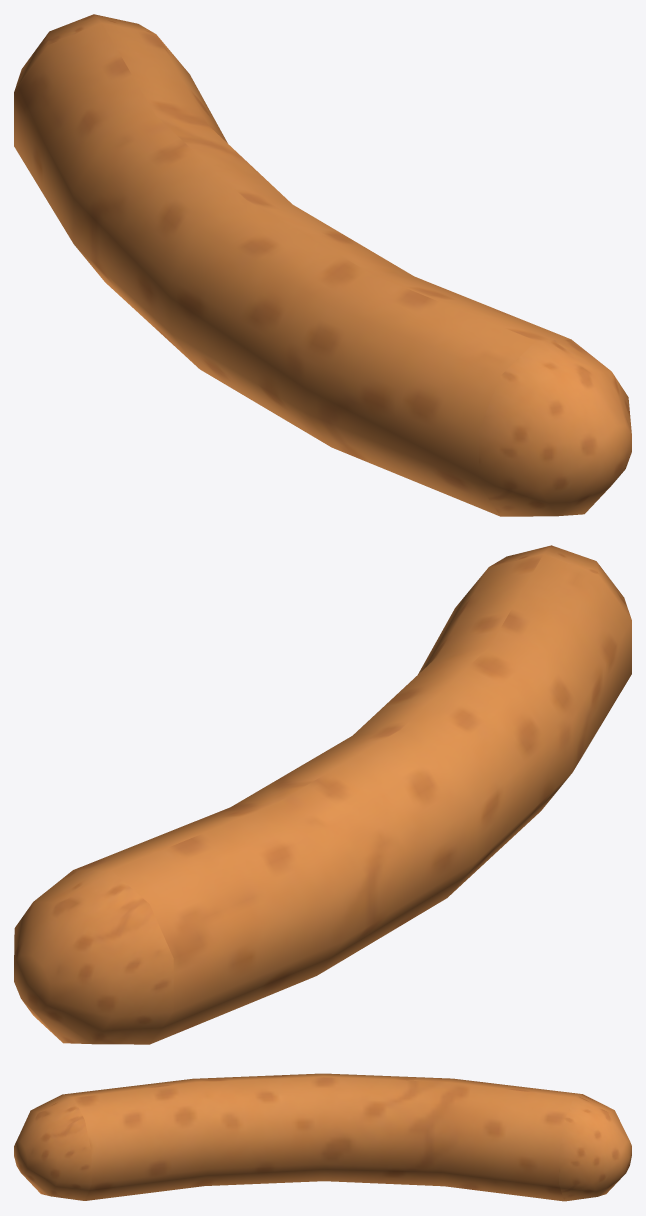
File: DoubleCooked_CervelasRaw.fbx
The picture shows the model from 3 angles, top to bottom: view 1: azimuth 30°, elevation 25°; view 2: azimuth 150°, elevation 25°; view 3: azimuth 270°, elevation 25°; orthographic projection. The views are drawn at different scales.
Parts seen in each view (by area): view 1: DoubleCooked_CervelasRaw; view 2: DoubleCooked_CervelasRaw; view 3: DoubleCooked_CervelasRaw.
Boxes of the visible parts, <box> form: DoubleCooked_CervelasRaw: <box>14,14,631,516</box>; DoubleCooked_CervelasRaw: <box>14,545,631,1044</box>; DoubleCooked_CervelasRaw: <box>14,1073,631,1201</box>.
Size of the model in its own units: 5.53 by 4.01 by 22.38.
Materials: 1 (1 with a texture image).
